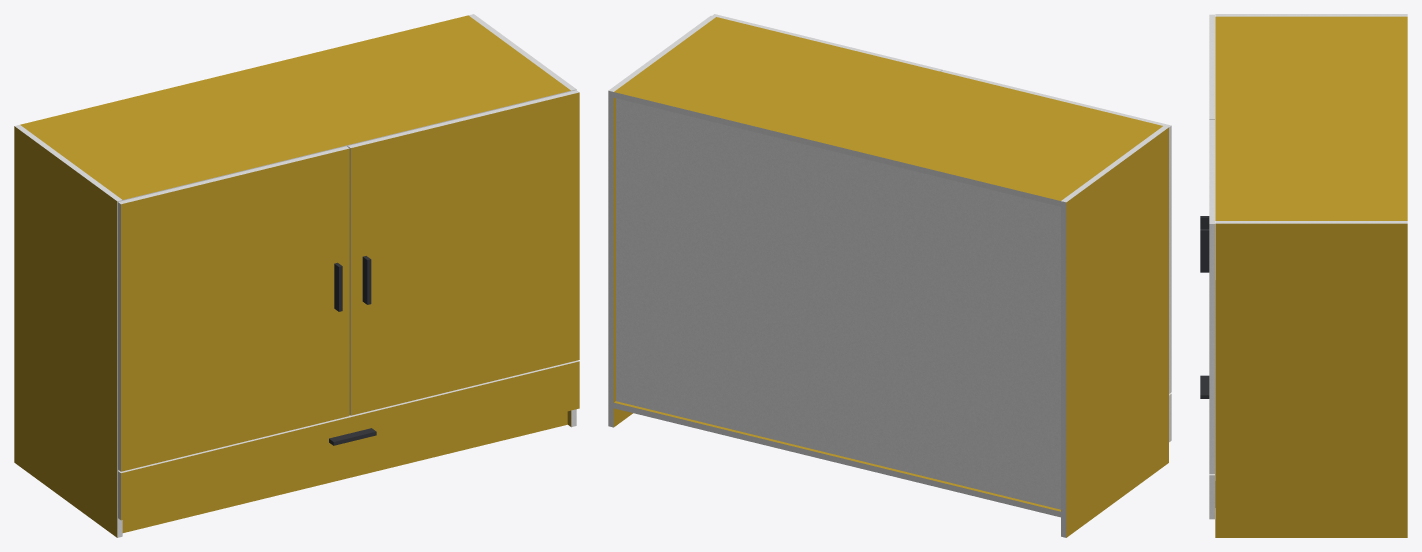
The model's file is FET-BAR-std.glb.
3 views of the same model, side by side, from view 1: azimuth 30°, elevation 25°; view 2: azimuth 150°, elevation 25°; view 3: azimuth 270°, elevation 25° (orthographic). The views are drawn at different scales.
Parts seen in each view (by area): view 1: door-r:pbr, door-l:pbr, top:pbr, side-l:pbr, d1-front:pbr, plinth:pbr, pull, d1-front:sheet:eyJtIjoibWRmIiwic2lkZSI6ImVkZ2UtbG9uZyIsInNlZ, door-l:sheet:eyJtIjoibWRmIiwic2lkZSI6ImVkZ2UtZW5kIiwic2VlZCI, door-r:sheet:eyJtIjoibWRmIiwic2lkZSI6ImVkZ2UtZW5kIiwic2VlZCI, door-l:sheet:eyJtIjoibWRmIiwic2lkZSI6ImVkZ2UtbG9uZyIsInNlZWQ, top:sheet:eyJtIjoibWRmIiwic2lkZSI6ImVkZ2UtbG9uZyIsInNlZWQiOj; view 2: back:sheet:eyJtIjoibWRmIiwic2lkZSI6ImZhY2UiLCJzZWVkIjoyLCJ0a, top:pbr, side-l:pbr, bottom:sheet:eyJtIjoibWRmIiwic2lkZSI6ImVkZ2UtbG9uZyIsInNlZWQ, top:sheet:eyJtIjoibWRmIiwic2lkZSI6ImVkZ2UtbG9uZyIsInNlZWQiOj, side-r:sheet:eyJtIjoibWRmIiwic2lkZSI6ImVkZ2UtbG9uZyIsInNlZWQ, side-l:sheet:eyJtIjoibWRmIiwic2lkZSI6ImVkZ2UtbG9uZyIsInNlZWQ, bottom:pbr, side-r:pbr, door-l:sheet:eyJtIjoibWRmIiwic2lkZSI6ImVkZ2UtbG9uZyIsInNlZWQ, door-r:sheet:eyJtIjoibWRmIiwic2lkZSI6ImVkZ2UtZW5kIiwic2VlZCI, door-l:sheet:eyJtIjoibWRmIiwic2lkZSI6ImVkZ2UtZW5kIiwic2VlZCI; view 3: side-r:pbr, top:pbr, door-r:sheet:eyJtIjoibWRmIiwic2lkZSI6ImVkZ2UtbG9uZyIsInNlZWQ, pull, door-l:sheet:eyJtIjoibWRmIiwic2lkZSI6ImVkZ2UtZW5kIiwic2VlZCI, door-r:sheet:eyJtIjoibWRmIiwic2lkZSI6ImVkZ2UtZW5kIiwic2VlZCI, side-l:sheet:eyJtIjoibWRmIiwic2lkZSI6ImVkZ2UtZW5kIiwic2VlZCI, side-r:sheet:eyJtIjoibWRmIiwic2lkZSI6ImVkZ2UtZW5kIiwic2VlZCI, d1-front:sheet:eyJtIjoibWRmIiwic2lkZSI6ImVkZ2UtZW5kIiwic2VlZ.
Part boxes in pixels (x1,y1,x2,y2): door-r:pbr: [350, 92, 579, 415]; door-l:pbr: [121, 148, 349, 471]; top:pbr: [20, 15, 570, 199]; side-l:pbr: [14, 126, 117, 537]; d1-front:pbr: [121, 361, 579, 520]; plinth:pbr: [122, 411, 567, 532]; pull: [329, 256, 376, 445]; d1-front:sheet:eyJtIjoibWRmIiwic2lkZSI6ImVkZ2UtbG9uZyIsInNlZ: [118, 360, 578, 472]; door-l:sheet:eyJtIjoibWRmIiwic2lkZSI6ImVkZ2UtZW5kIiwic2VlZCI: [118, 146, 349, 204]; door-r:sheet:eyJtIjoibWRmIiwic2lkZSI6ImVkZ2UtZW5kIiwic2VlZCI: [348, 90, 579, 147]; door-l:sheet:eyJtIjoibWRmIiwic2lkZSI6ImVkZ2UtbG9uZyIsInNlZWQ: [118, 202, 120, 471]; top:sheet:eyJtIjoibWRmIiwic2lkZSI6ImVkZ2UtbG9uZyIsInNlZWQiOj: [122, 90, 570, 200]; back:sheet:eyJtIjoibWRmIiwic2lkZSI6ImZhY2UiLCJzZWVkIjoyLCJ0a: [616, 98, 1060, 509]; top:pbr: [614, 17, 1162, 200]; side-l:pbr: [1066, 127, 1168, 537]; bottom:sheet:eyJtIjoibWRmIiwic2lkZSI6ImVkZ2UtbG9uZyIsInNlZWQ: [613, 402, 1060, 517]; top:sheet:eyJtIjoibWRmIiwic2lkZSI6ImVkZ2UtbG9uZyIsInNlZWQiOj: [613, 92, 1060, 206]; side-r:sheet:eyJtIjoibWRmIiwic2lkZSI6ImVkZ2UtbG9uZyIsInNlZWQ: [608, 90, 613, 427]; side-l:sheet:eyJtIjoibWRmIiwic2lkZSI6ImVkZ2UtbG9uZyIsInNlZWQ: [1061, 201, 1066, 537]; bottom:pbr: [614, 401, 1060, 511]; side-r:pbr: [613, 98, 632, 427]; door-l:sheet:eyJtIjoibWRmIiwic2lkZSI6ImVkZ2UtbG9uZyIsInNlZWQ: [1169, 126, 1171, 393]; door-r:sheet:eyJtIjoibWRmIiwic2lkZSI6ImVkZ2UtZW5kIiwic2VlZCI: [712, 14, 941, 71]; door-l:sheet:eyJtIjoibWRmIiwic2lkZSI6ImVkZ2UtZW5kIiwic2VlZCI: [941, 70, 1171, 127]; side-r:pbr: [1215, 223, 1407, 537]; top:pbr: [1215, 16, 1407, 220]; door-r:sheet:eyJtIjoibWRmIiwic2lkZSI6ImVkZ2UtbG9uZyIsInNlZWQ: [1209, 224, 1214, 473]; pull: [1200, 216, 1209, 398]; door-l:sheet:eyJtIjoibWRmIiwic2lkZSI6ImVkZ2UtZW5kIiwic2VlZCI: [1209, 14, 1214, 118]; door-r:sheet:eyJtIjoibWRmIiwic2lkZSI6ImVkZ2UtZW5kIiwic2VlZCI: [1209, 119, 1214, 223]; side-l:sheet:eyJtIjoibWRmIiwic2lkZSI6ImVkZ2UtZW5kIiwic2VlZCI: [1215, 14, 1407, 16]; side-r:sheet:eyJtIjoibWRmIiwic2lkZSI6ImVkZ2UtZW5kIiwic2VlZCI: [1215, 221, 1407, 223]; d1-front:sheet:eyJtIjoibWRmIiwic2lkZSI6ImVkZ2UtZW5kIiwic2VlZ: [1209, 475, 1214, 519].
Size of the model in its own units: 1.5 by 1.05 by 0.6271.
55 materials, 42 textured.
